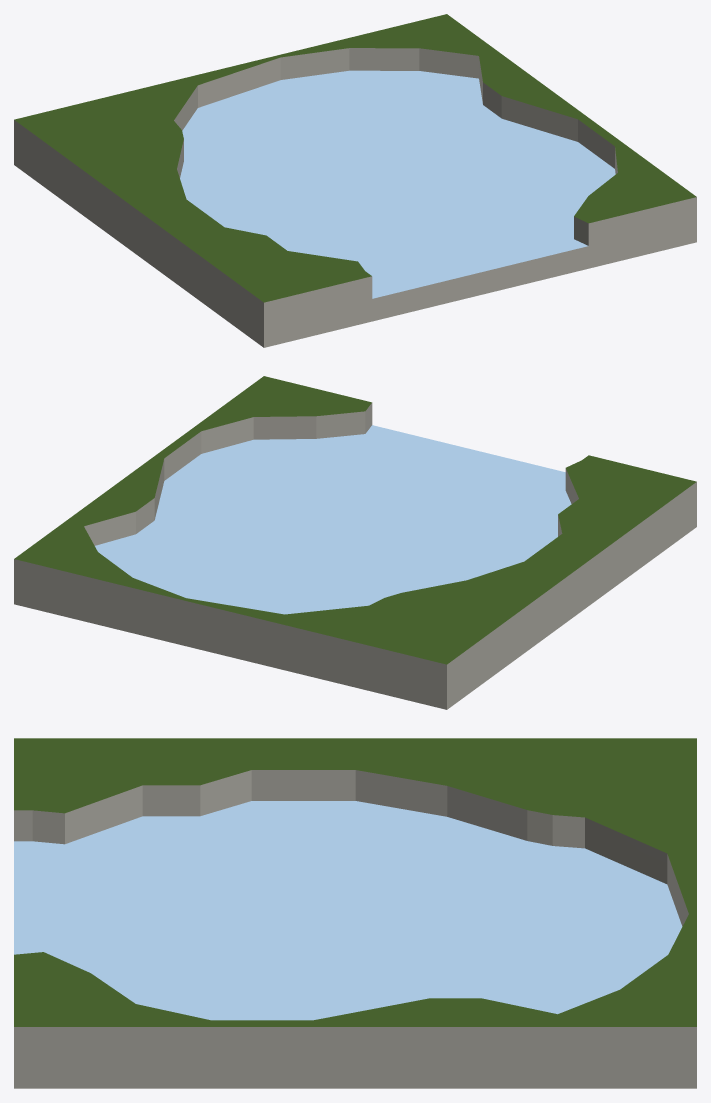
File: Terrain_Modular_Tiles_Grass_Rock_River_End_01.fbx
3 views of the same model, one above another, from view 1: azimuth 30°, elevation 25°; view 2: azimuth 150°, elevation 25°; view 3: azimuth 270°, elevation 25° (orthographic). The views are drawn at different scales.
Visible parts, largest first — view 1: Terrain_Modular_Tiles_Grass_Rock_River_End_01; view 2: Terrain_Modular_Tiles_Grass_Rock_River_End_01; view 3: Terrain_Modular_Tiles_Grass_Rock_River_End_01.
Boxes of the visible parts, x1,y1,x2,y2 form: Terrain_Modular_Tiles_Grass_Rock_River_End_01: [14, 14, 696, 347]; Terrain_Modular_Tiles_Grass_Rock_River_End_01: [14, 376, 696, 709]; Terrain_Modular_Tiles_Grass_Rock_River_End_01: [14, 738, 696, 1088].
Size of the model in its own units: 3000 by 300 by 3000.
